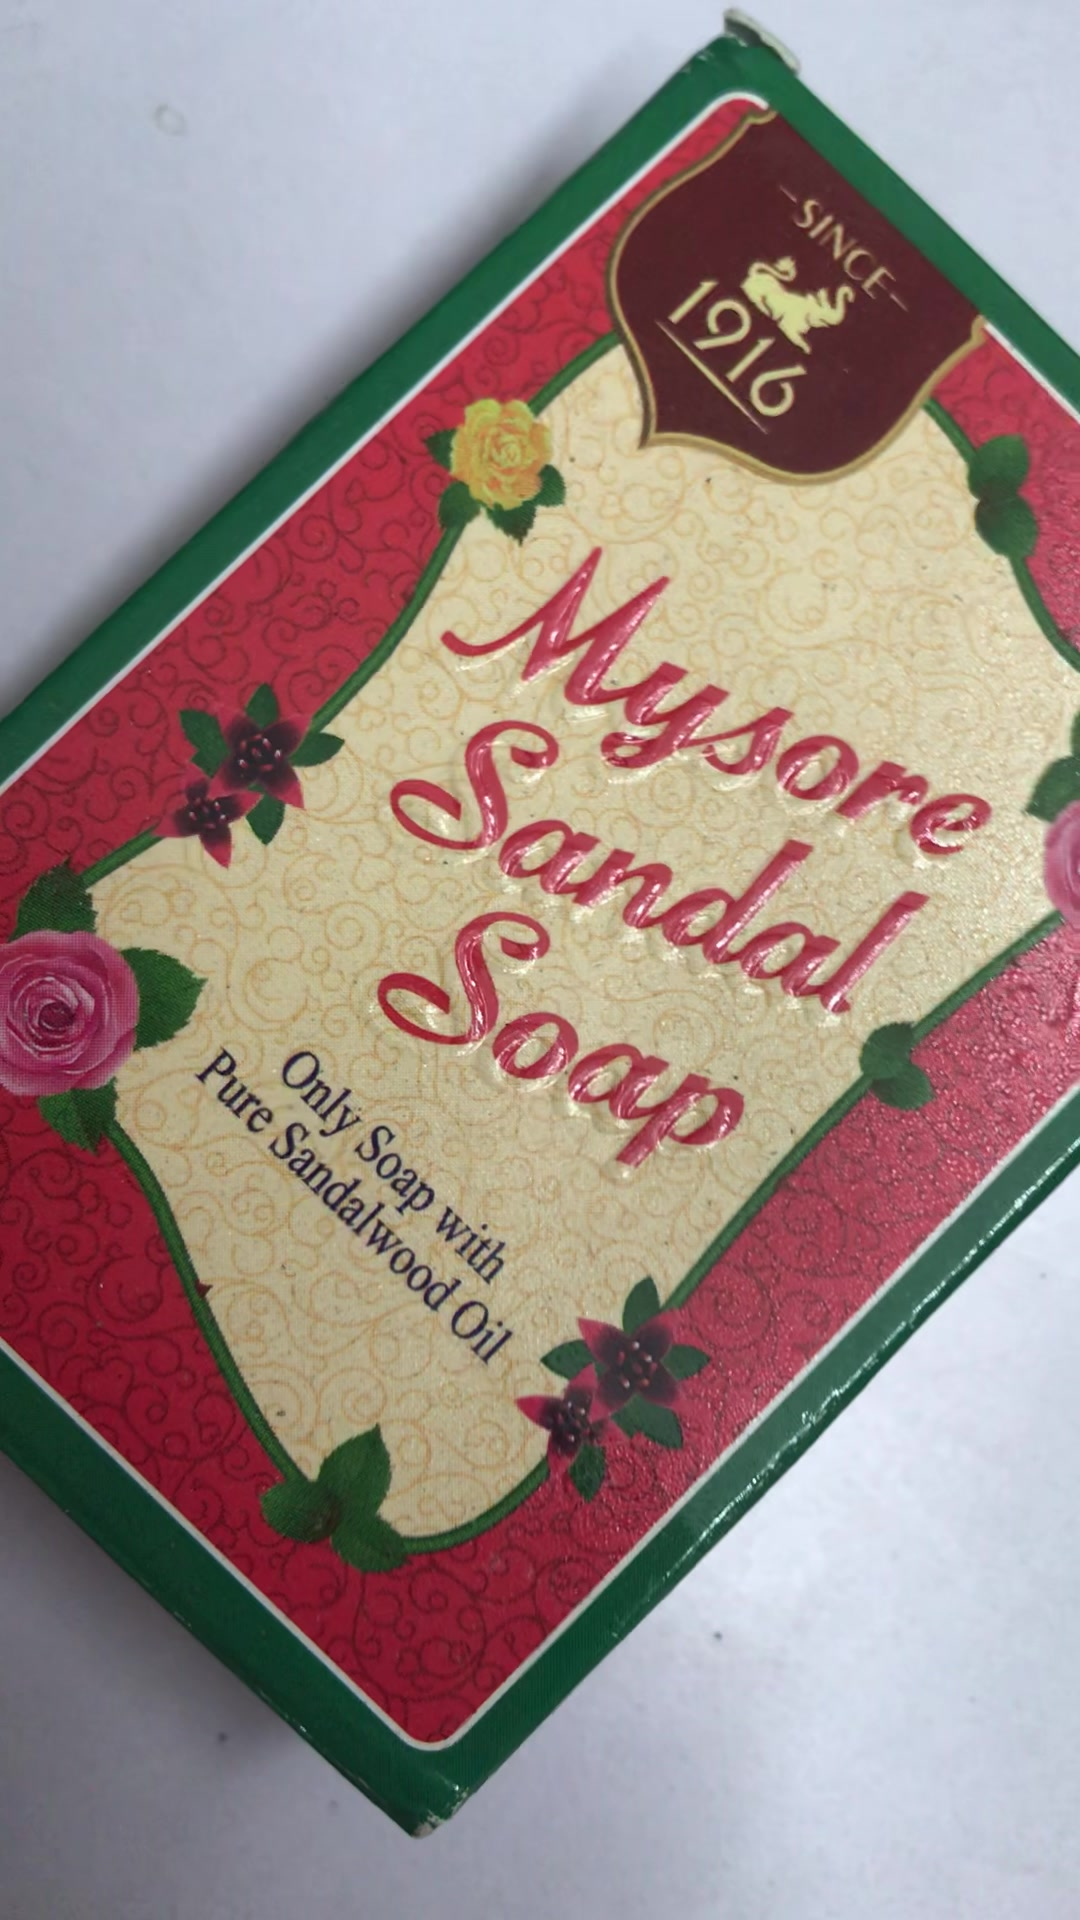mysore sandal soap: (1, 22, 1073, 1818)
